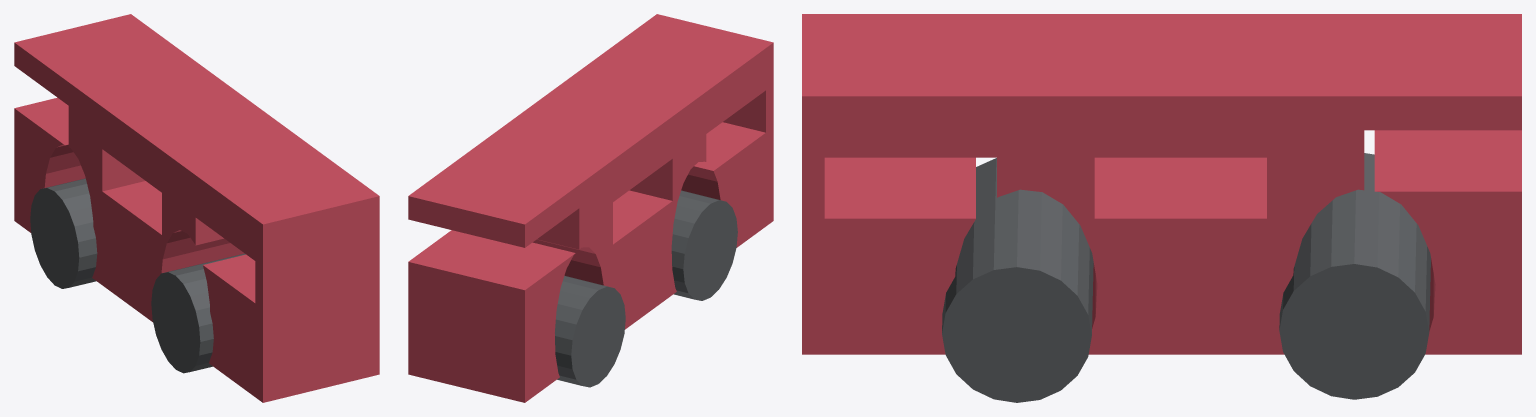
Rendered from Dazzling Sango.glb.
3 renders of one model, left to right at view 1: azimuth 30°, elevation 25°; view 2: azimuth 150°, elevation 25°; view 3: azimuth 270°, elevation 25°, orthographic. The views are drawn at different scales.
Visible parts, largest first — view 1: Mesh_Mesh_head_geo.001_lambert2SG.001; view 2: Mesh_Mesh_head_geo.001_lambert2SG.001; view 3: Mesh_Mesh_head_geo.001_lambert2SG.001.
Boxes of the visible parts, x1,y1,x2,y2 form: Mesh_Mesh_head_geo.001_lambert2SG.001: (14, 14, 379, 402); Mesh_Mesh_head_geo.001_lambert2SG.001: (408, 14, 773, 402); Mesh_Mesh_head_geo.001_lambert2SG.001: (802, 14, 1521, 402).
Bounding box in the file's own units: 37 × 42 × 96.
